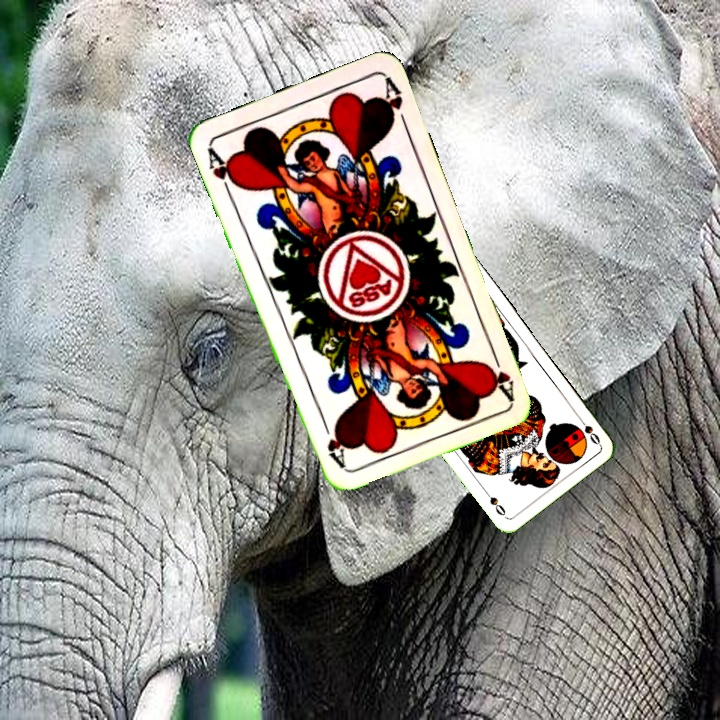HA: (202, 142, 242, 199), (480, 344, 517, 402)
SO: (574, 412, 603, 447)
